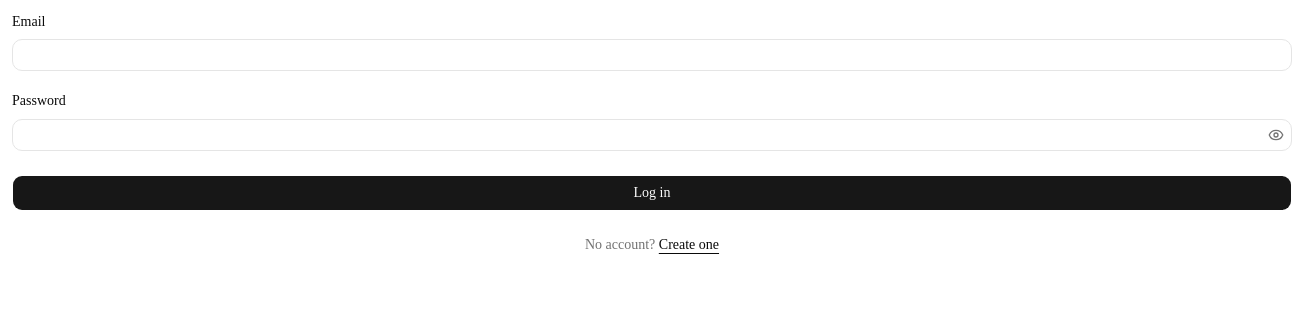
Test: LoginForm › should explain the problem when the account has no workspace
Type "ann@example.com" into the field labelled "Email" at [652, 55], box x1=12 y1=39 x2=1292 y2=71
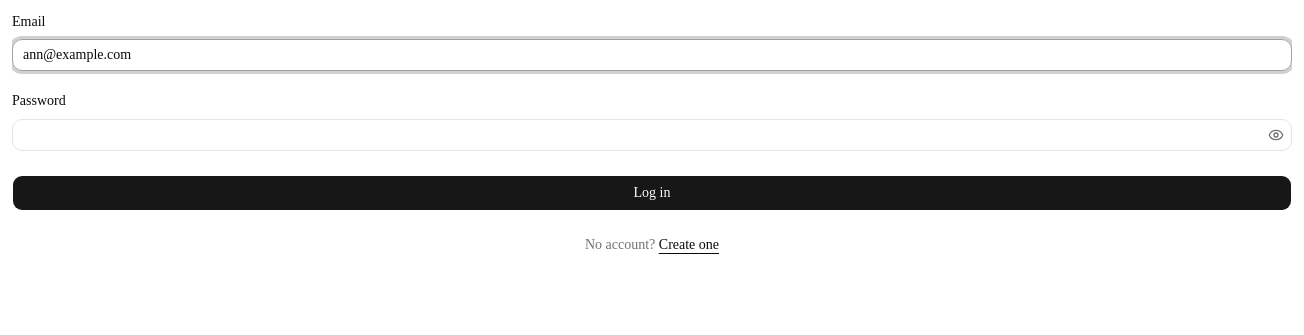
Type "correct horse battery" into the password field labelled "Password" at [638, 134], box x1=13 y1=118 x2=1264 y2=150
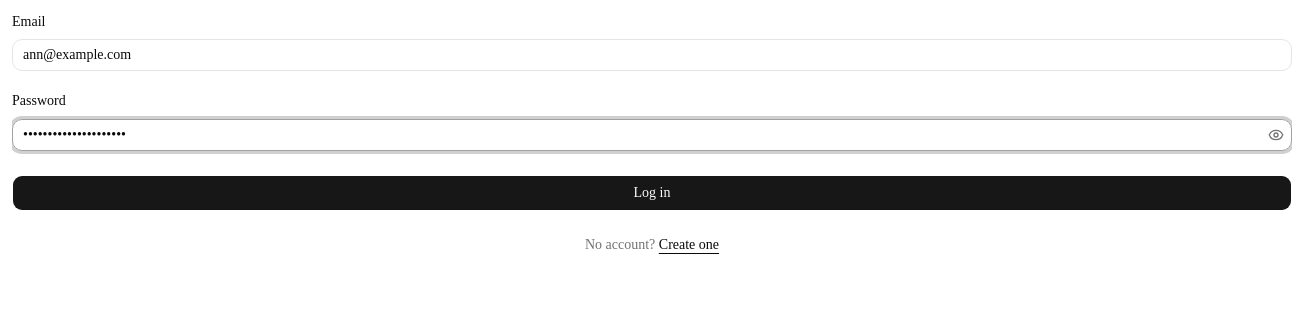
Click the button "Log in" at [652, 192], box x1=12 y1=174 x2=1292 y2=210
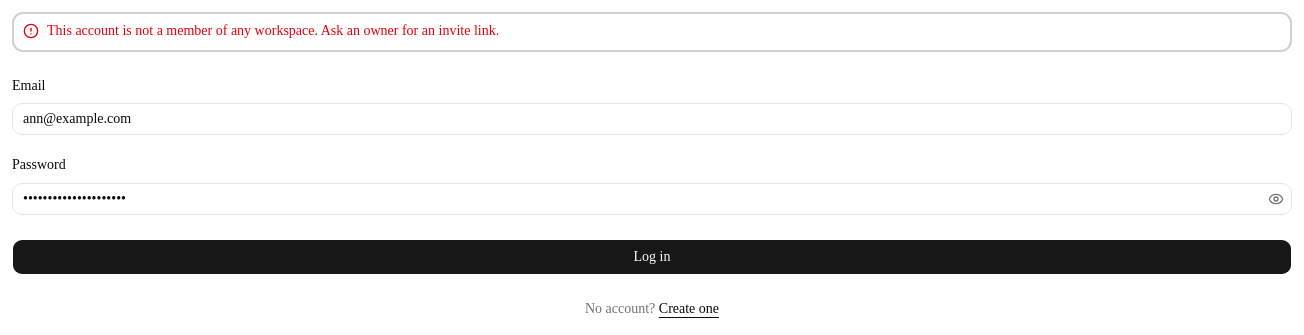
expect the message reads "This account is not a member of any workspace. Ask an owner for an invite link.": met, box x1=47 y1=23 x2=499 y2=38
